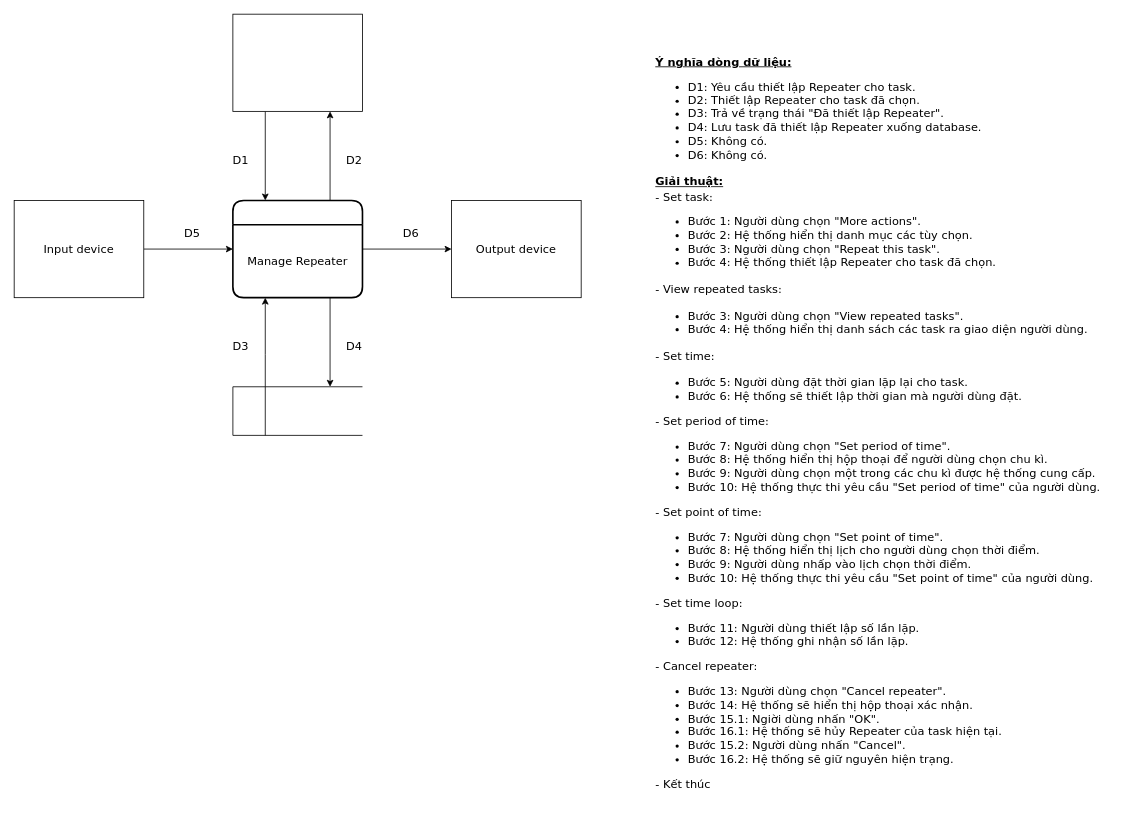
Image size: 1130x816. Some labels were removed from this diagram. Each missing label, with the box of its shape:
Storage: (232, 386, 362, 435)
User: (232, 13, 362, 111)
